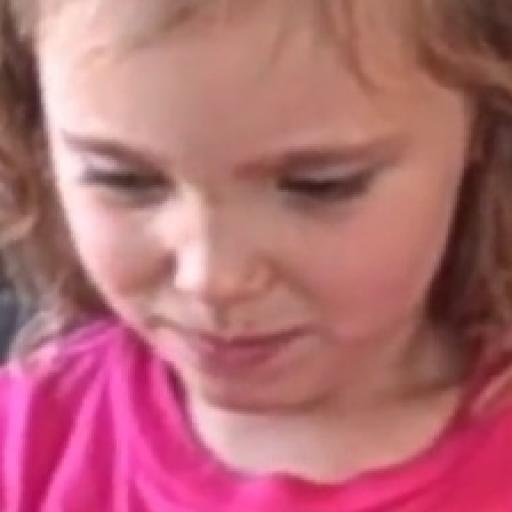Autism: (11, 9, 512, 468)
